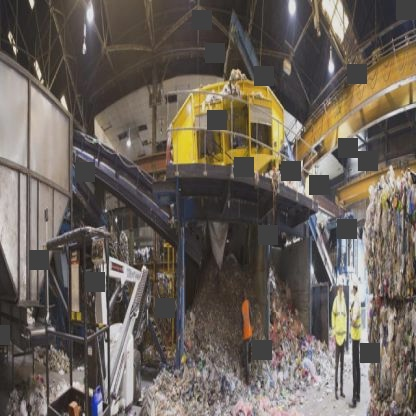vest: (332, 292, 349, 347), (350, 288, 364, 342), (241, 294, 254, 340)
white: (352, 266, 361, 302), (336, 271, 344, 287)
